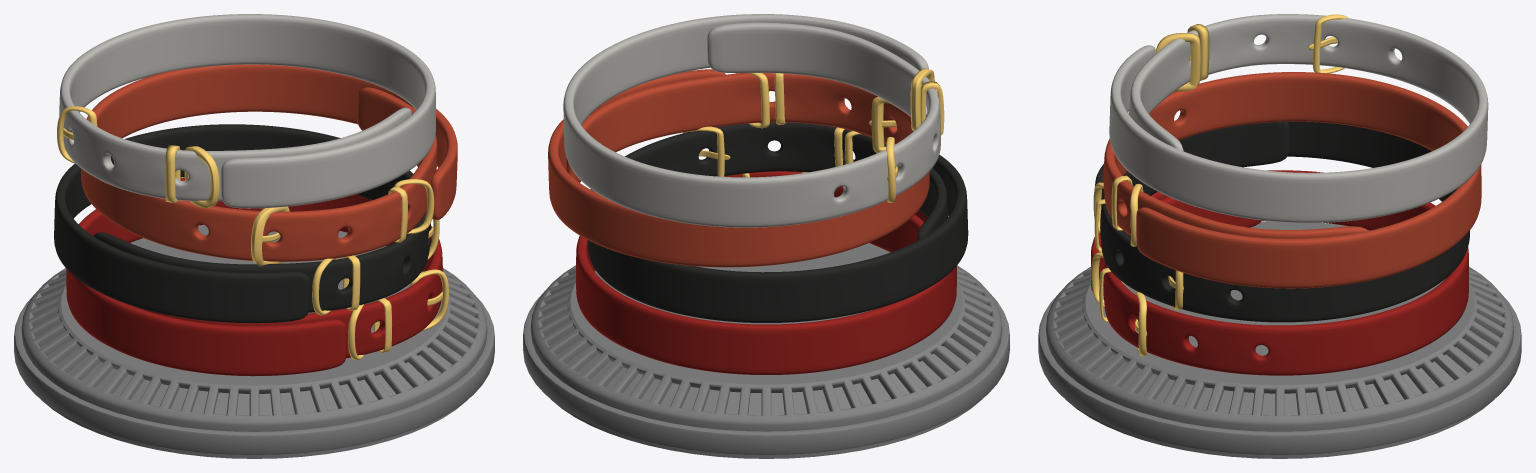
Rendered from Leather Collar.glb.
3 renders of one model, left to right at view 1: azimuth 30°, elevation 25°; view 2: azimuth 150°, elevation 25°; view 3: azimuth 270°, elevation 25°, orthographic.
Parts seen in each view (by area): view 1: Cube, Cylinder.003, Cylinder.002, Cylinder.001, Cylinder, Plane.013, Plane.011, Plane.012, Plane.015, Plane.009, Plane.003, Plane.004 (+2 smaller); view 2: Cube, Cylinder.003, Cylinder.002, Cylinder.001, Cylinder, Plane.011, Plane.013, Plane.012, Plane.009, Plane.015, Plane.008; view 3: Cube, Cylinder.003, Cylinder.002, Cylinder.001, Cylinder, Plane.013, Plane.015, Plane.012, Plane.003.
Boxes of the visible parts, x1,y1,x2,y2 form: Cube: (14, 225, 494, 458); Cylinder.003: (59, 14, 435, 208); Cylinder.002: (81, 64, 457, 261); Cylinder.001: (54, 124, 430, 323); Cylinder: (66, 177, 442, 376); Plane.013: (184, 146, 219, 208); Plane.011: (251, 206, 289, 266); Plane.012: (165, 145, 180, 202); Plane.015: (57, 106, 97, 163); Plane.009: (394, 179, 434, 233); Plane.003: (410, 269, 448, 330); Plane.004: (343, 255, 360, 310); Cube: (523, 243, 1009, 458); Cylinder.003: (563, 14, 940, 227); Cylinder.002: (548, 69, 929, 267); Cylinder.001: (587, 122, 968, 322); Cylinder: (576, 171, 956, 374); Plane.011: (871, 96, 890, 152); Plane.013: (910, 68, 934, 130); Plane.012: (919, 81, 944, 135); Plane.009: (736, 73, 769, 128); Plane.015: (886, 137, 895, 202); Plane.008: (774, 73, 785, 124); Cube: (1038, 221, 1521, 458); Cylinder.003: (1109, 14, 1488, 222); Cylinder.002: (1103, 72, 1481, 288); Cylinder.001: (1095, 121, 1469, 322); Cylinder: (1091, 170, 1468, 375); Plane.013: (1156, 33, 1201, 91); Plane.015: (1313, 14, 1348, 73); Plane.012: (1187, 24, 1209, 80); Plane.003: (1135, 291, 1146, 356).
Bounding box in the file's own units: 2.1 × 1.32 × 2.1.
